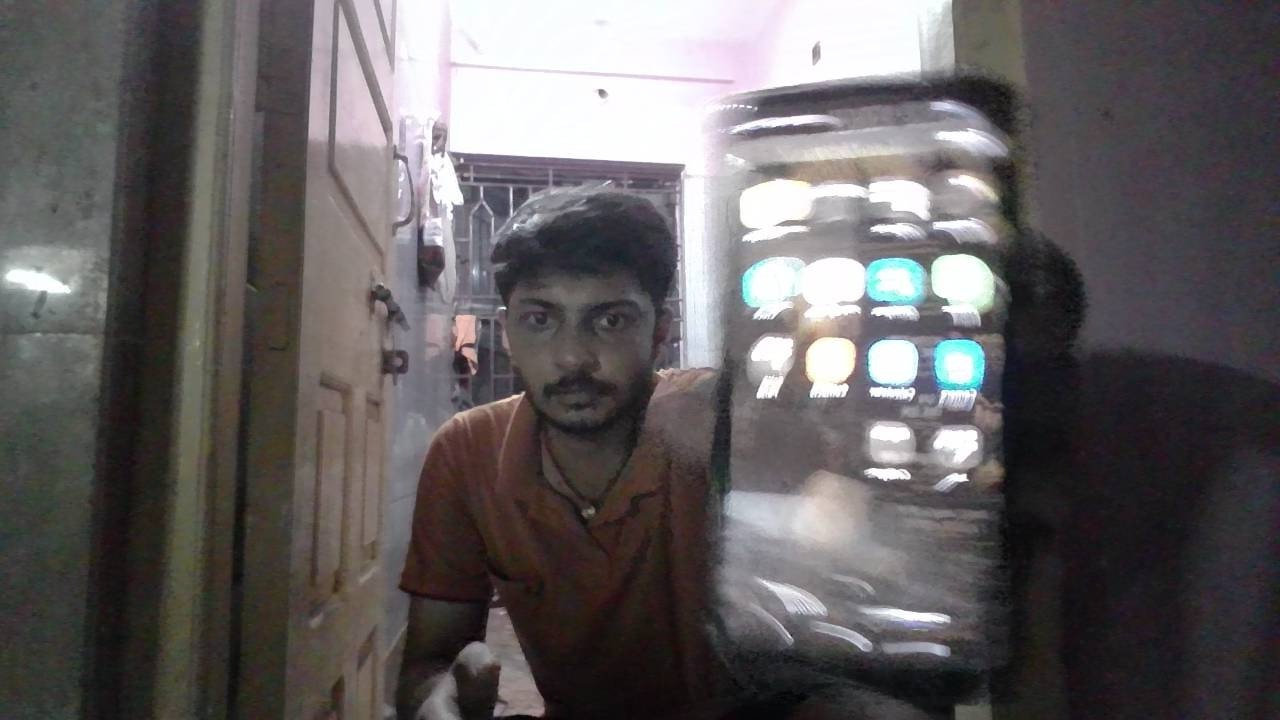red_box: (419, 411, 548, 567)
